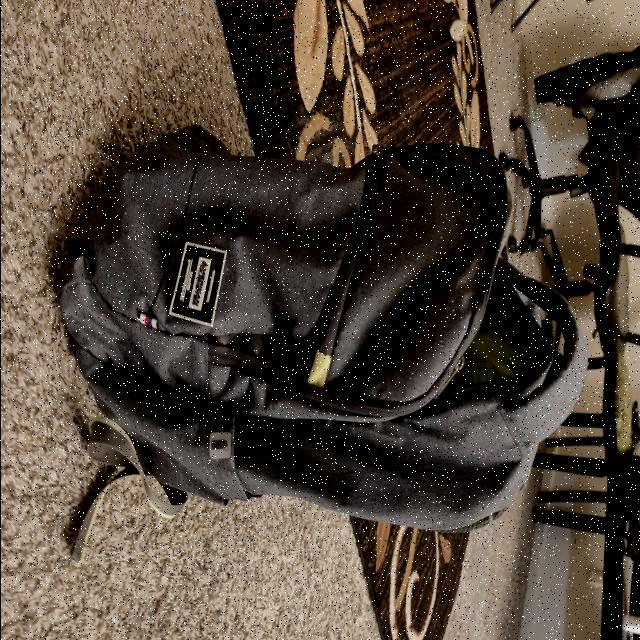bag: (58, 170, 578, 566)
